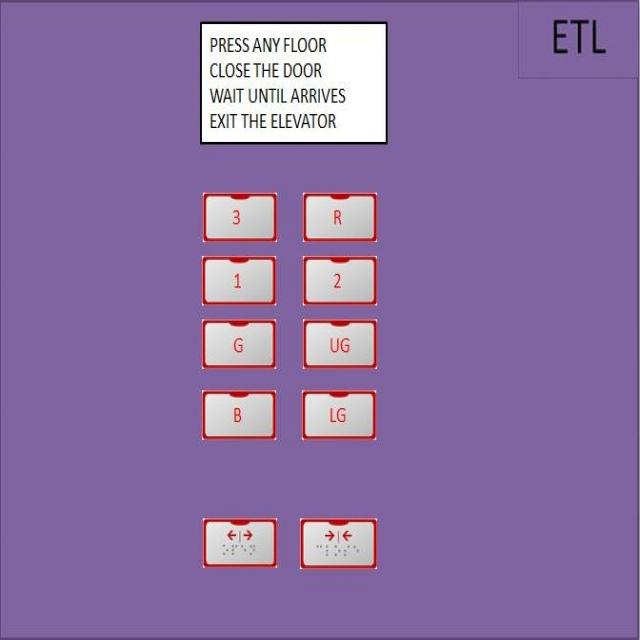1: (199, 251, 279, 309)
2: (297, 250, 378, 308)
3: (199, 186, 279, 247)
B: (198, 382, 278, 443)
G: (198, 312, 277, 371)
LG: (298, 384, 377, 442)
R: (299, 186, 379, 246)
UG: (299, 314, 378, 370)
close: (296, 512, 378, 574)
open: (199, 512, 278, 573)
